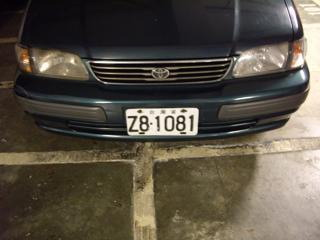plate: (122, 106, 201, 137)
